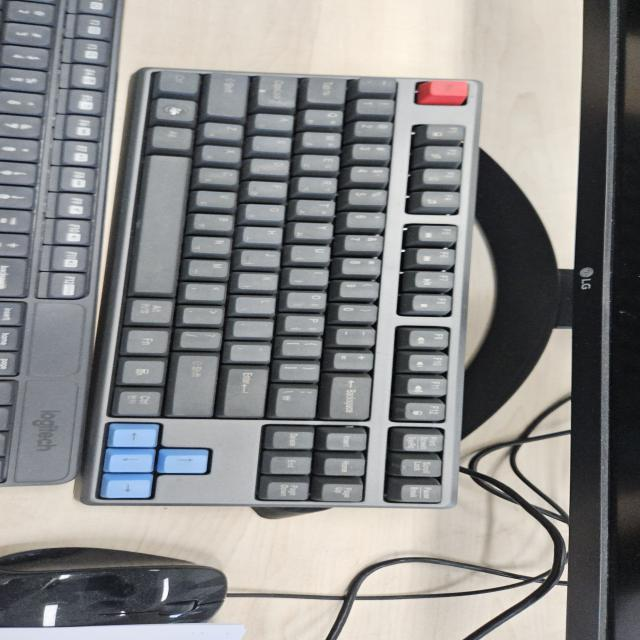Keyboard: (76, 65, 481, 509)
Mouse: (2, 545, 230, 627)
